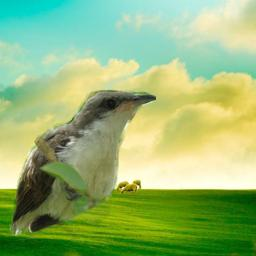Cuckoo: (8, 89, 156, 239)
